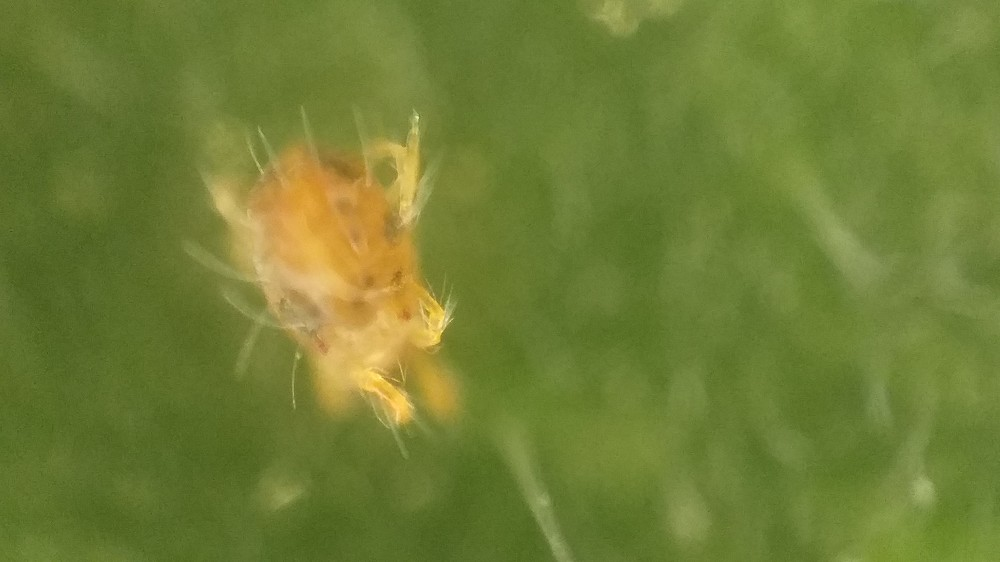Aracnido Rojo: (194, 101, 503, 444)
